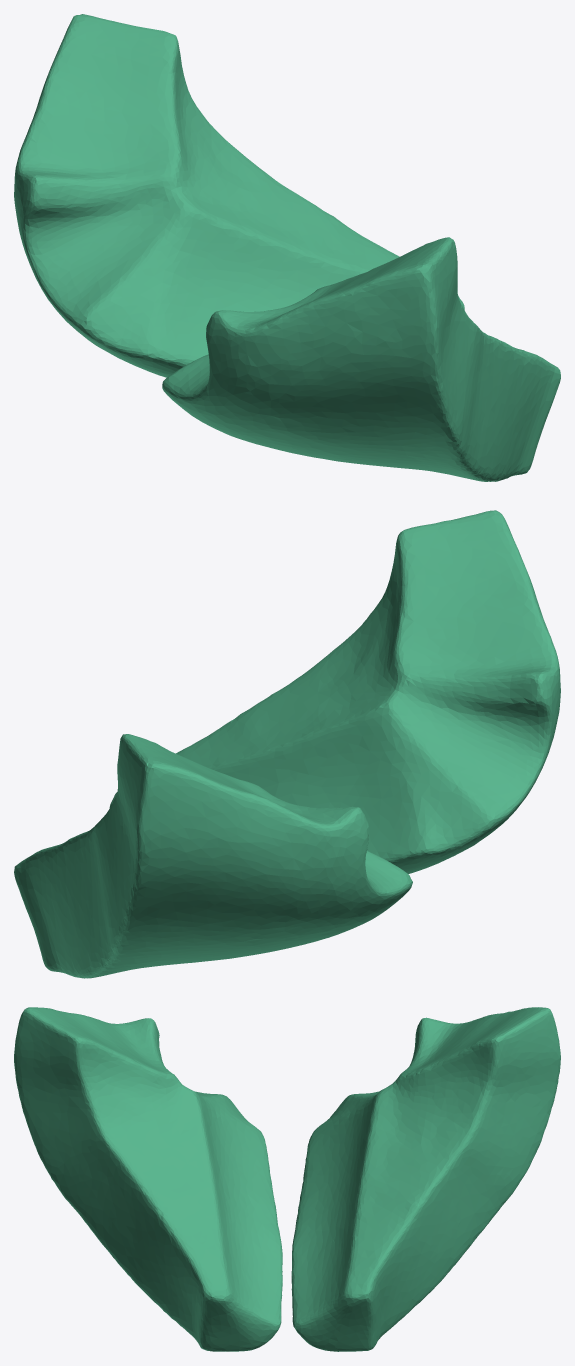
3 renders of one model, top to bottom at view 1: azimuth 30°, elevation 25°; view 2: azimuth 150°, elevation 25°; view 3: azimuth 270°, elevation 25°, orthographic. The views are drawn at different scales.
Visible parts, largest first — view 1: 500.obj; view 2: 500.obj; view 3: 500.obj.
Boxes of the visible parts, x1,y1,x2,y2 form: 500.obj: [14, 14, 560, 481]; 500.obj: [14, 510, 560, 978]; 500.obj: [14, 1007, 560, 1351].
Bounding box in the file's own units: 4514 × 3815 × 7200.
